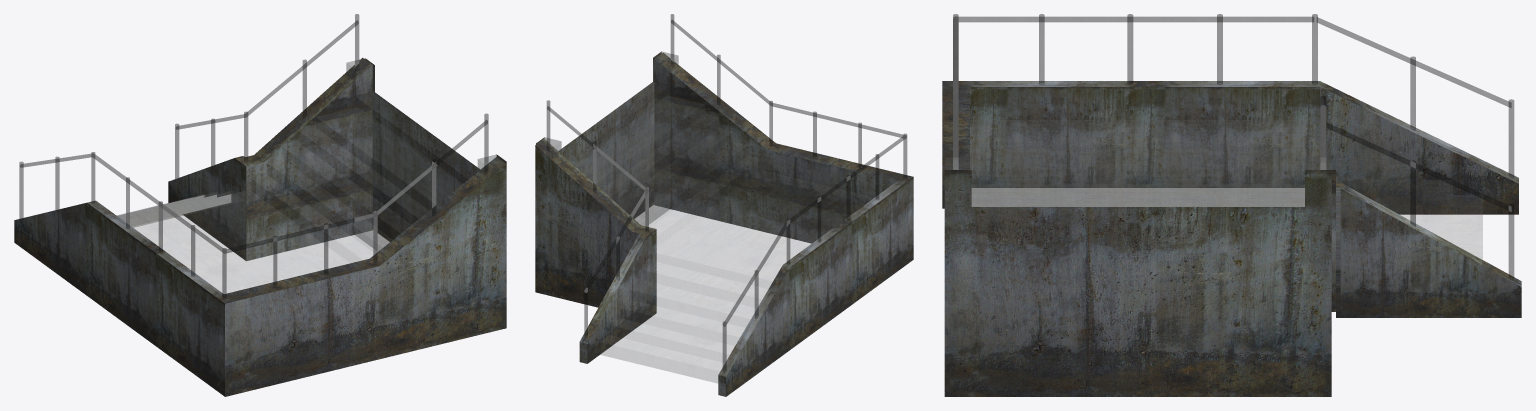
Rendered from stairsNew.glb.
The picture shows the model from 3 angles, left to right: view 1: azimuth 30°, elevation 25°; view 2: azimuth 150°, elevation 25°; view 3: azimuth 270°, elevation 25°; orthographic projection. The views are drawn at different scales.
Parts seen in each view (by area): view 1: objStair; view 2: objStair; view 3: objStair.
Boxes of the visible parts, x1,y1,x2,y2 form: objStair: (14,14,506,396); objStair: (535,14,913,396); objStair: (942,14,1521,396).
Bounding box in the file's own units: 2.21 × 1.6 × 2.86.
3 materials, 3 textured.
